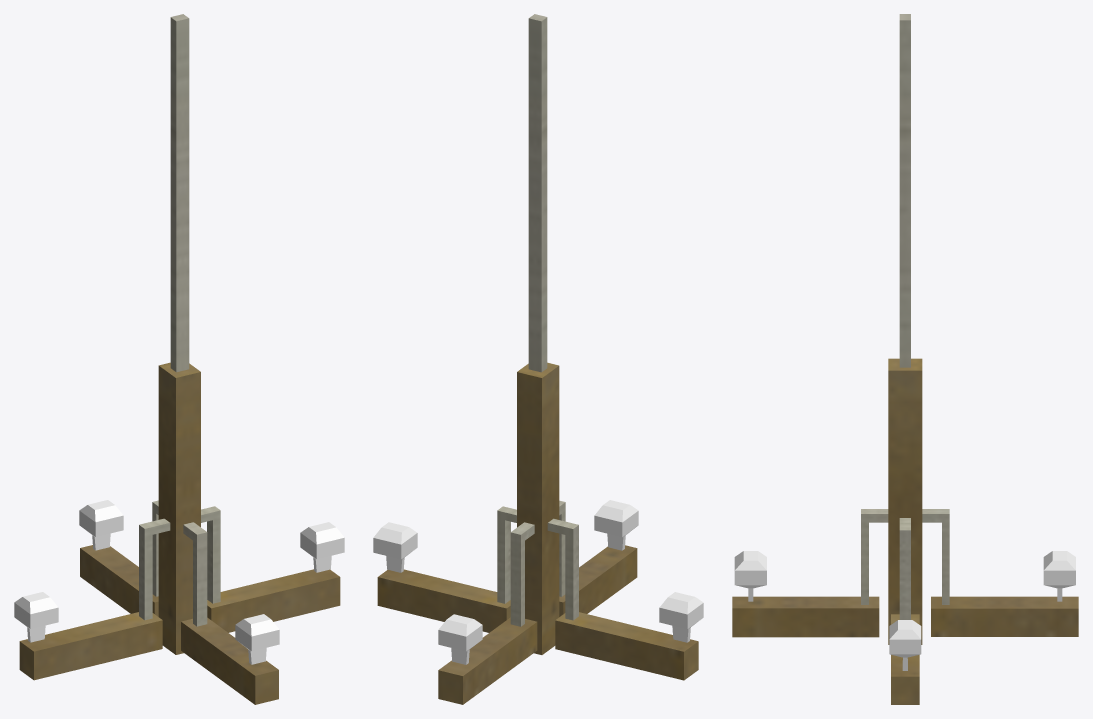
Rendered from Chandelier.fbx.
3 renders of one model, left to right at view 1: azimuth 30°, elevation 25°; view 2: azimuth 150°, elevation 25°; view 3: azimuth 270°, elevation 25°, orthographic.
Parts seen in each view (by area): view 1: Cube, Cube.001; view 2: Cube, Cube.001; view 3: Cube, Cube.001.
Part boxes in pixels (x1,y1,x2,y2): Cube: [19, 14, 340, 704]; Cube.001: [14, 500, 344, 664]; Cube: [377, 14, 698, 704]; Cube.001: [373, 500, 703, 664]; Cube: [732, 14, 1078, 704]; Cube.001: [734, 551, 1075, 670].
Size of the model in its own units: 395 by 755 by 381.
